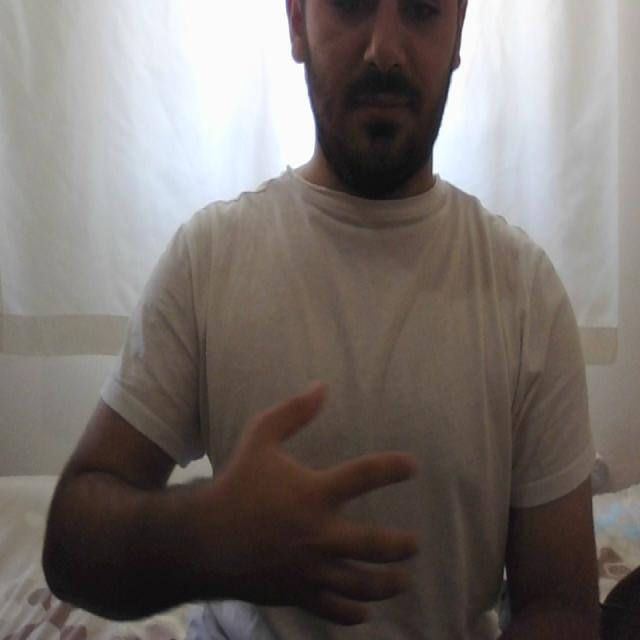Anne: (197, 379, 517, 640)
